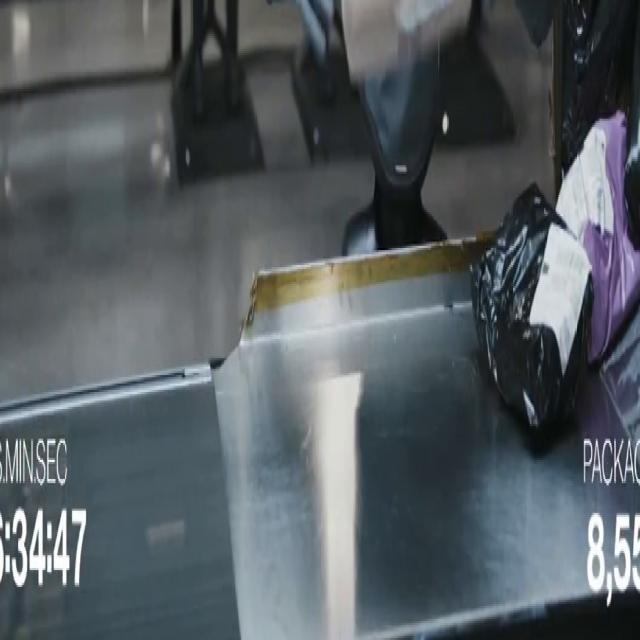package: (472, 185, 593, 442), (556, 113, 639, 364), (561, 0, 637, 171), (625, 11, 639, 247)
